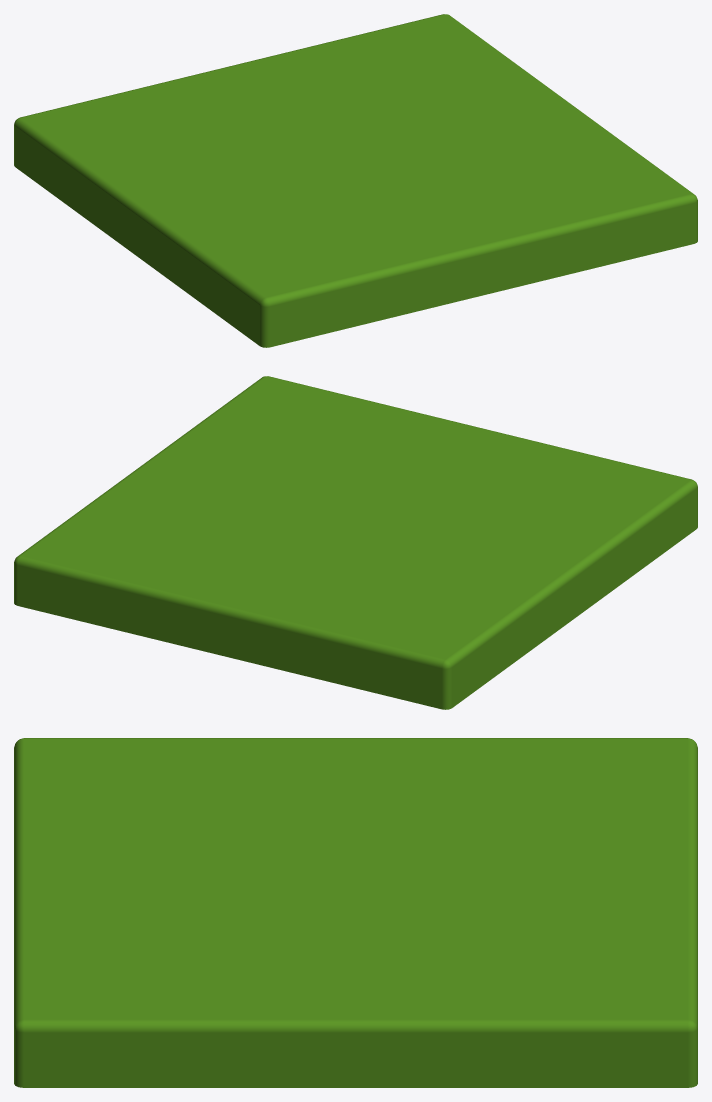
File: floor.glb
The picture shows the model from 3 angles, top to bottom: view 1: azimuth 30°, elevation 25°; view 2: azimuth 150°, elevation 25°; view 3: azimuth 270°, elevation 25°; orthographic projection. The views are drawn at different scales.
Parts seen in each view (by area): view 1: Plane; view 2: Plane; view 3: Plane.
Boxes of the visible parts, x1,y1,x2,y2 form: Plane: (14, 14, 697, 347); Plane: (14, 376, 697, 709); Plane: (14, 738, 697, 1087).
Size of the model in its own units: 8 by 0.8285 by 8.
